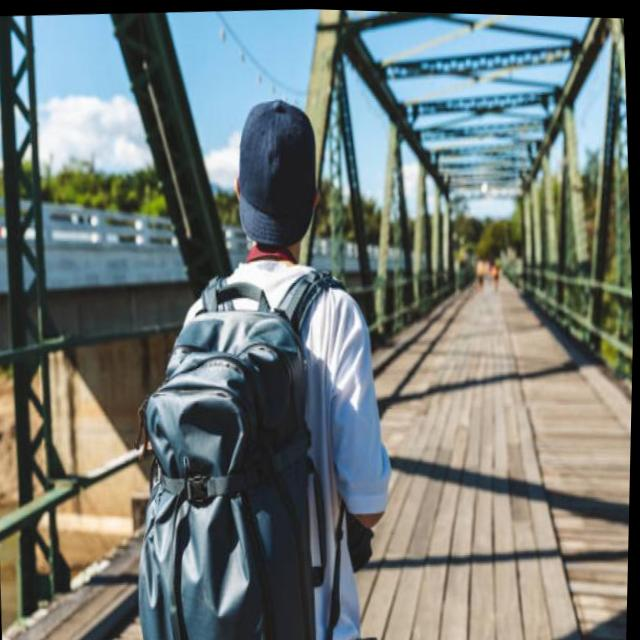no helmet: (212, 89, 339, 289)
